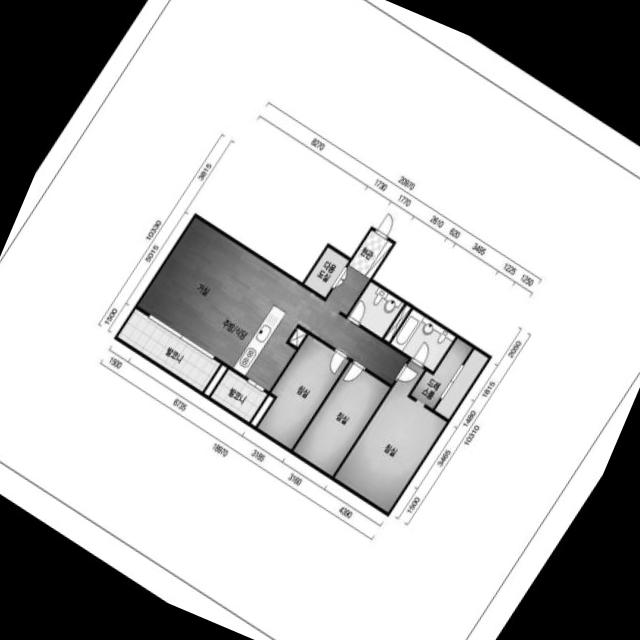background: (0, 0, 640, 640)
space_balconi: (117, 308, 219, 391), (210, 369, 266, 421)
space_bedroom: (333, 360, 446, 511), (293, 361, 389, 475), (256, 334, 348, 449)
space_dressroom: (410, 337, 487, 419)
space_front: (348, 229, 392, 278)
space_kitchen: (204, 288, 297, 390)
space_living_room: (137, 217, 407, 384)
space_multipurpose_space: (303, 246, 348, 296)
space_other: (383, 304, 410, 341), (203, 364, 226, 395), (250, 395, 273, 426), (288, 327, 306, 346)
space_toilet: (390, 308, 455, 371), (348, 281, 403, 337)
